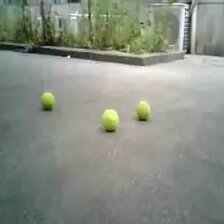tennis: (101, 109, 118, 130), (134, 102, 151, 120), (41, 92, 54, 108)
